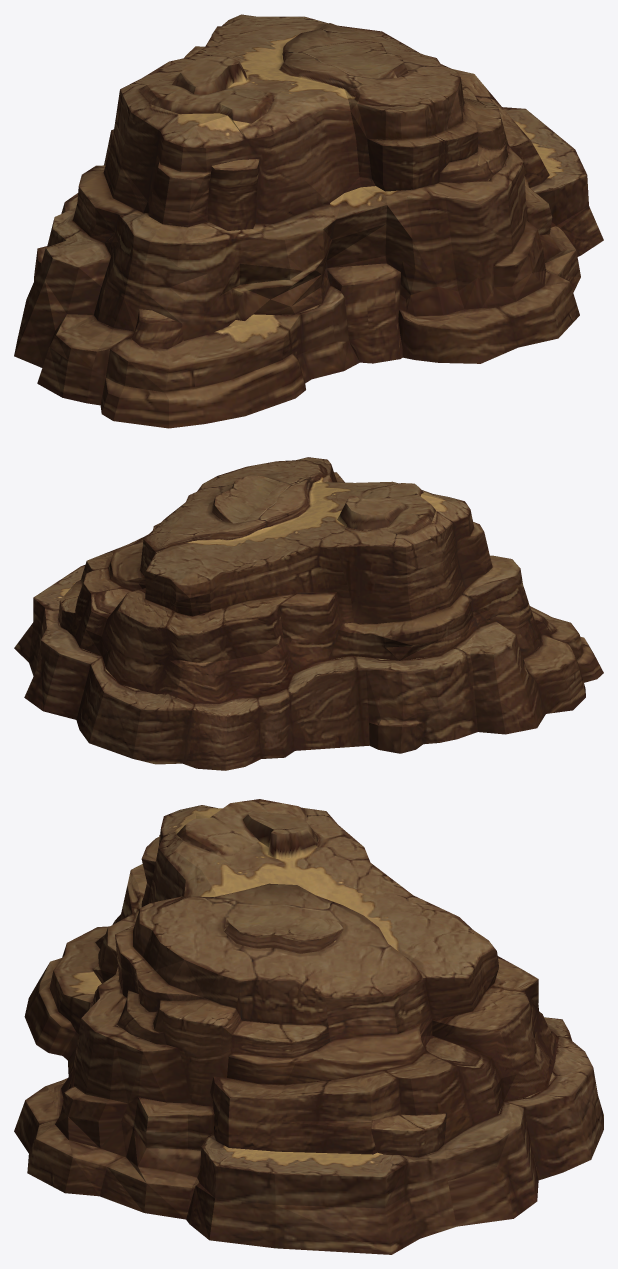
File: nashgar_construct_rock_large02_01.FBX
3 views of the same model, one above another, from view 1: azimuth 30°, elevation 25°; view 2: azimuth 150°, elevation 25°; view 3: azimuth 270°, elevation 25° (orthographic). The views are drawn at different scales.
Visible parts, largest first — view 1: nashgar_construct_rock_large02_01; view 2: nashgar_construct_rock_large02_01; view 3: nashgar_construct_rock_large02_01.
Boxes of the visible parts, x1=… form: nashgar_construct_rock_large02_01: x1=14, y1=14, x2=603, y2=428; nashgar_construct_rock_large02_01: x1=14, y1=457, x2=603, y2=770; nashgar_construct_rock_large02_01: x1=14, y1=799, x2=603, y2=1254.
Size of the model in its own units: 18.91 by 7.1 by 15.77.
